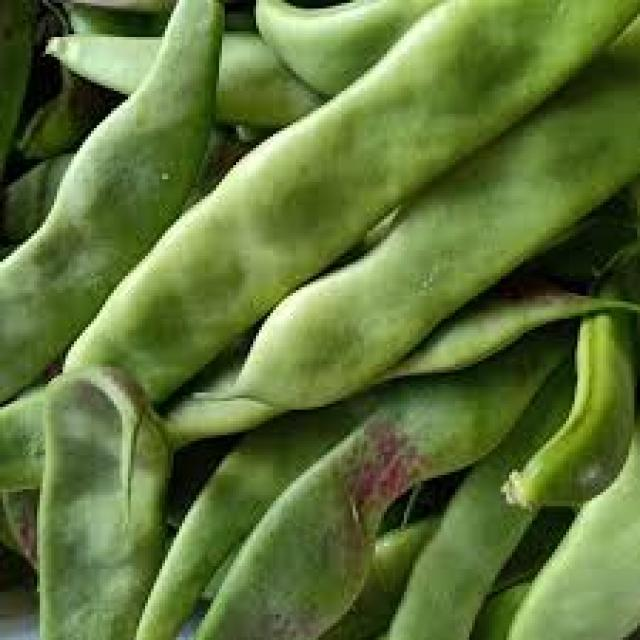organic waste: (60, 0, 637, 404), (216, 14, 637, 404), (0, 282, 637, 495), (190, 324, 569, 637), (0, 0, 219, 398), (131, 381, 375, 637), (384, 350, 575, 637), (492, 233, 637, 509), (37, 358, 171, 638), (504, 401, 637, 637), (40, 31, 324, 128), (0, 154, 228, 248), (250, 0, 446, 102), (14, 76, 108, 154), (0, 0, 31, 173), (0, 489, 40, 575)
